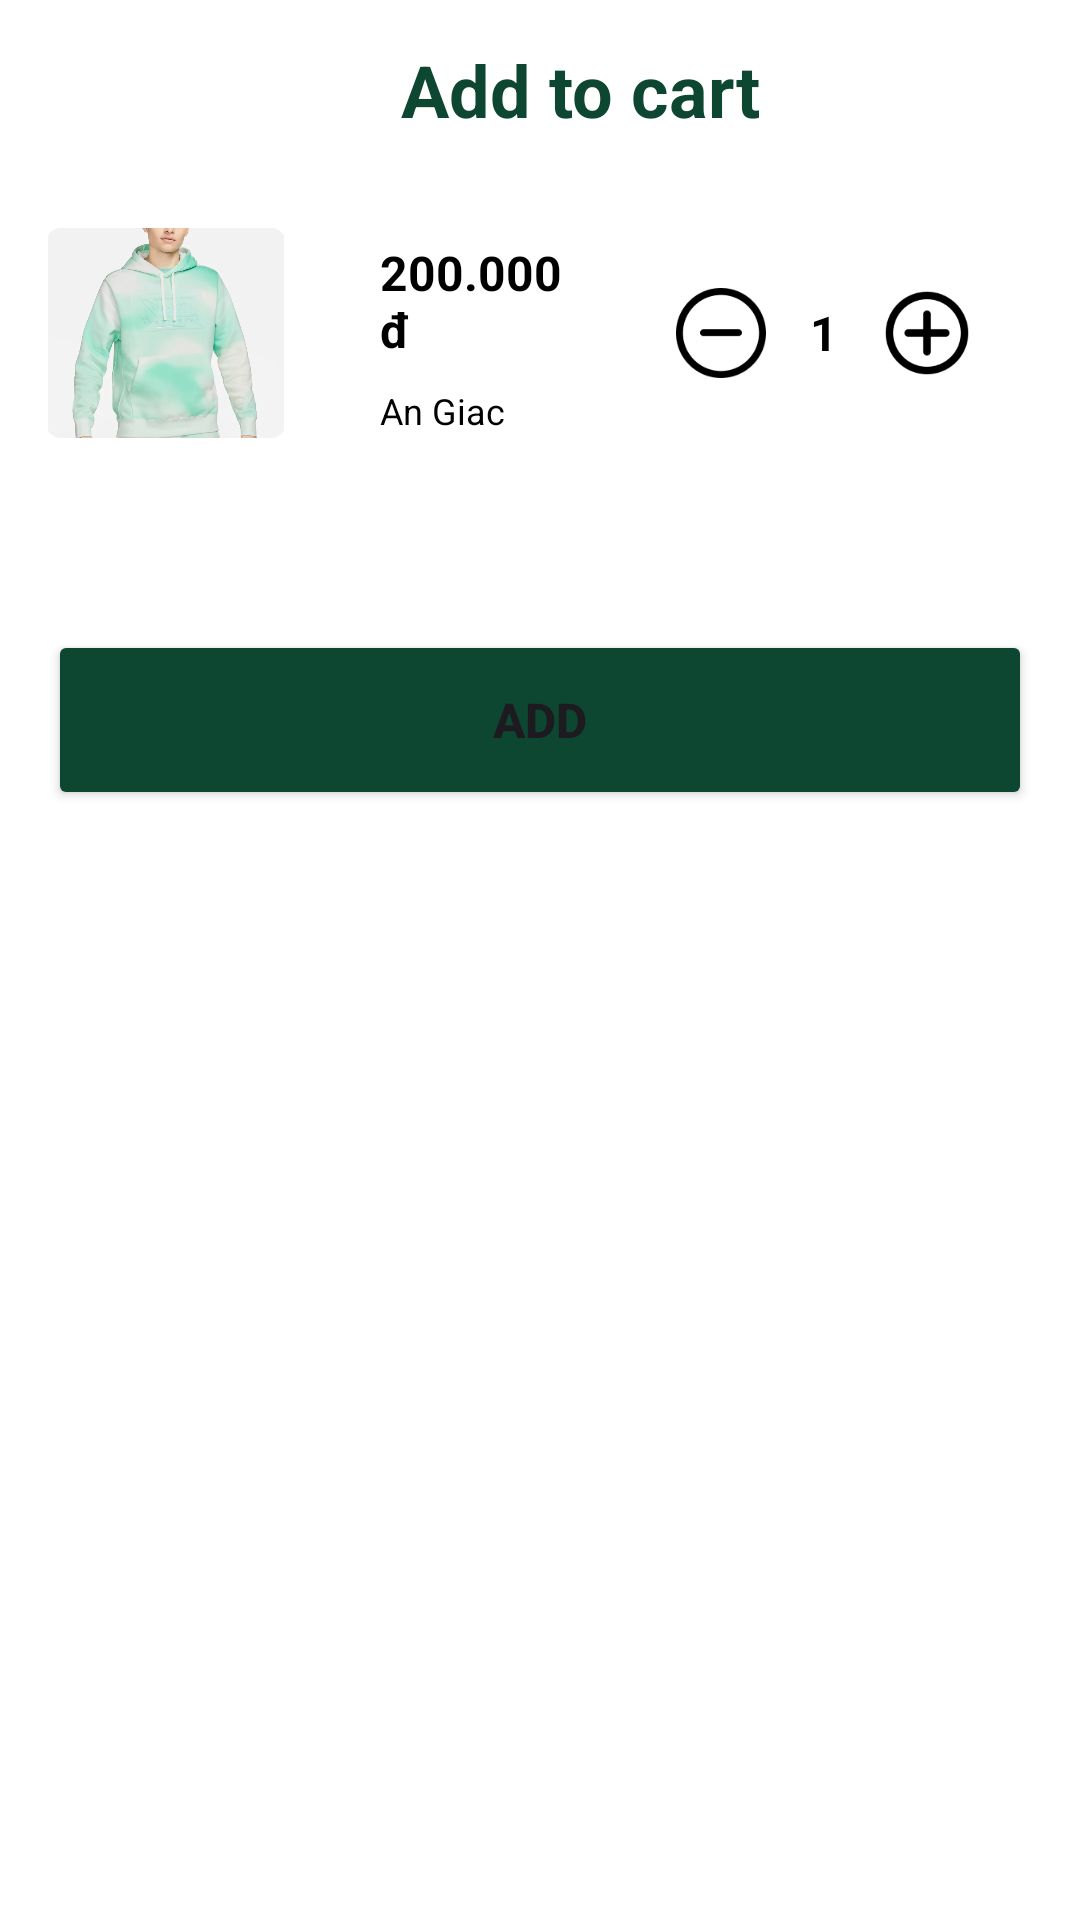

Icon click points for this 1080px×1920px phone screenshot, format [x,y]:
increase: [927,333]
minus: [721,333]
product: [165,333]
